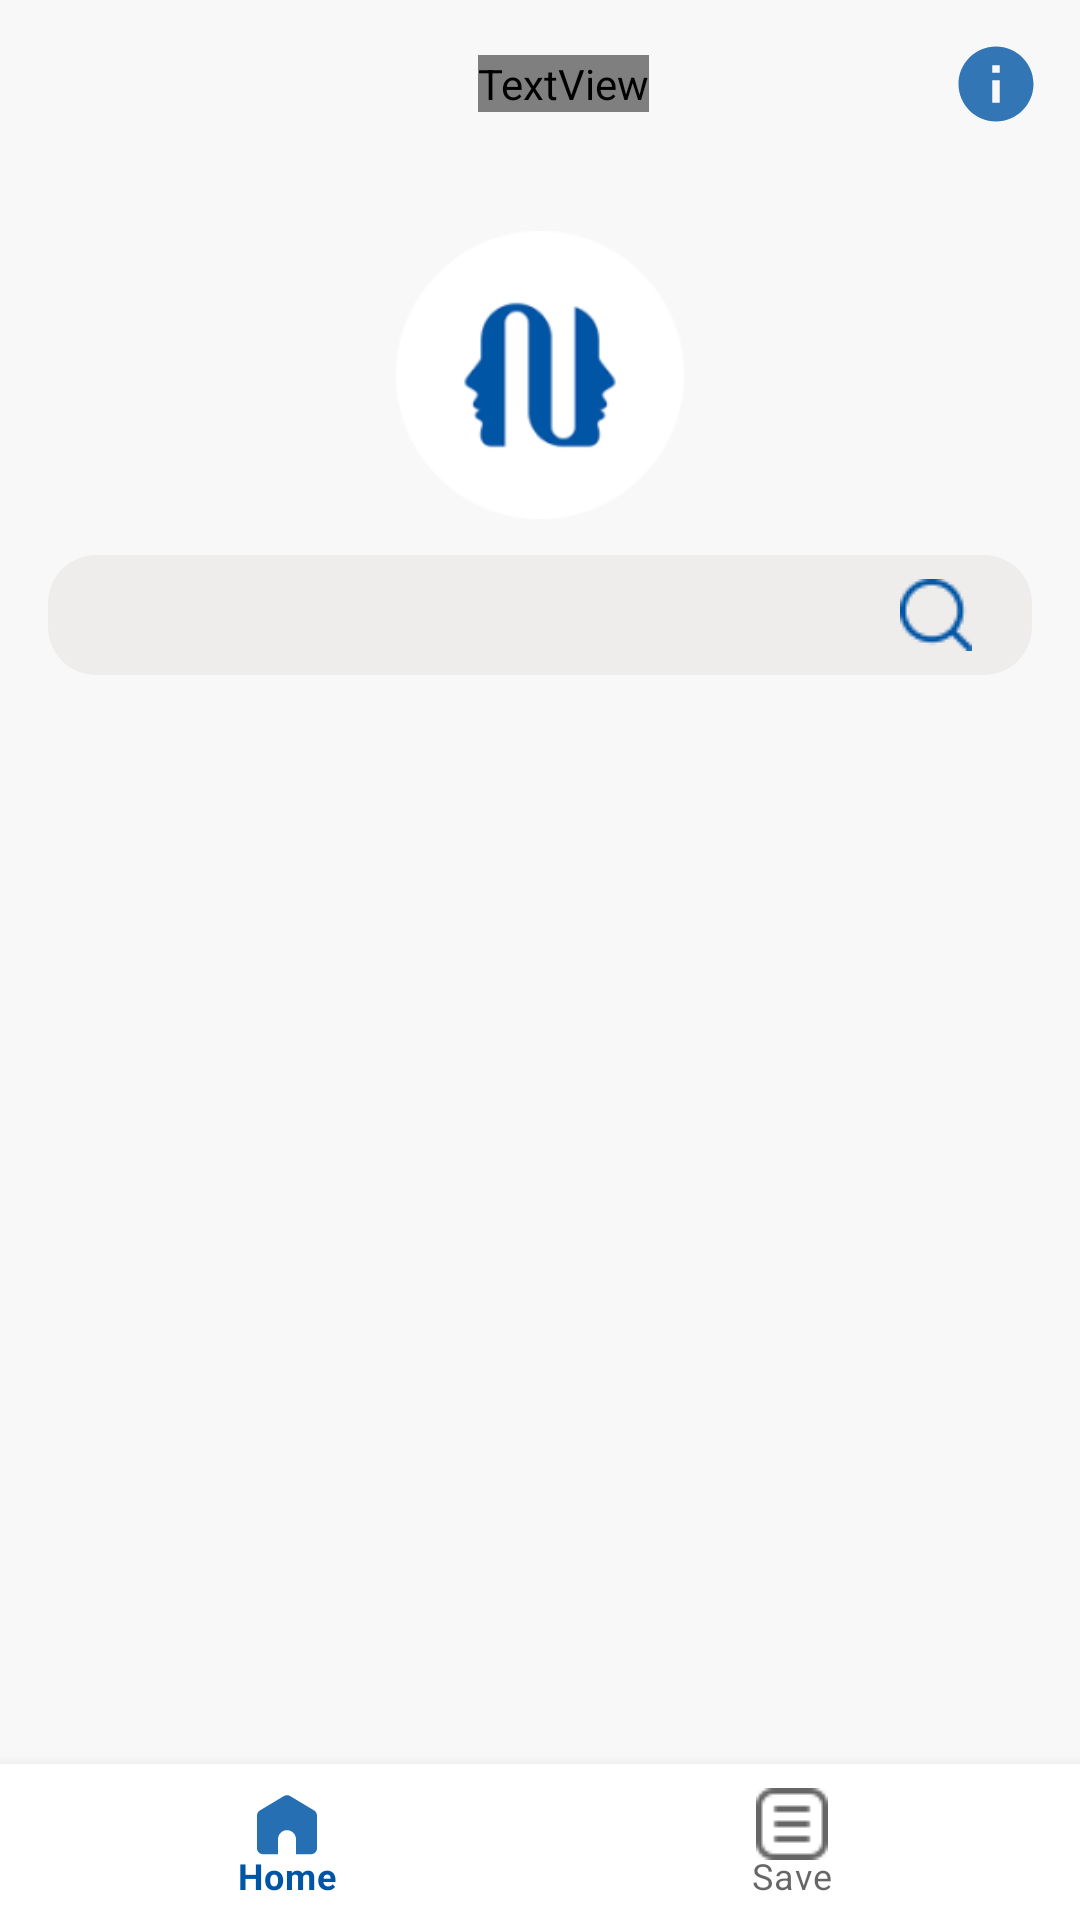

Named icons in this screenshot (1080x1920) and their bounding boxes, (x1, y1, x2, y2):
info: (958, 46, 1034, 122)
search: (900, 579, 972, 651)
